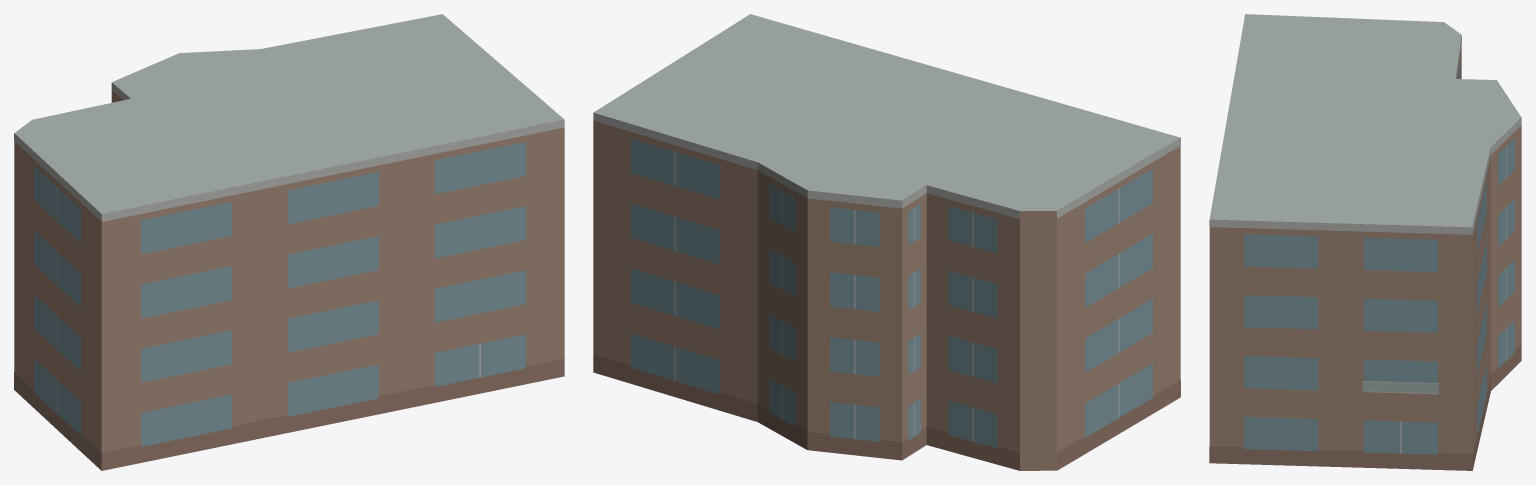
The model's file is survey-upis-32716528.glb.
3 views of the same model, side by side, from view 1: azimuth 30°, elevation 25°; view 2: azimuth 150°, elevation 25°; view 3: azimuth 270°, elevation 25° (orthographic). The views are drawn at different scales.
Visible parts, largest first — view 1: survey-upis-32716528.tmp; view 2: survey-upis-32716528.tmp; view 3: survey-upis-32716528.tmp.
Boxes of the visible parts, x1,y1,x2,y2 form: survey-upis-32716528.tmp: [14, 14, 564, 470]; survey-upis-32716528.tmp: [593, 14, 1180, 470]; survey-upis-32716528.tmp: [1209, 14, 1521, 470].
Size of the model in its own units: 14.96 by 7.96 by 9.25.
